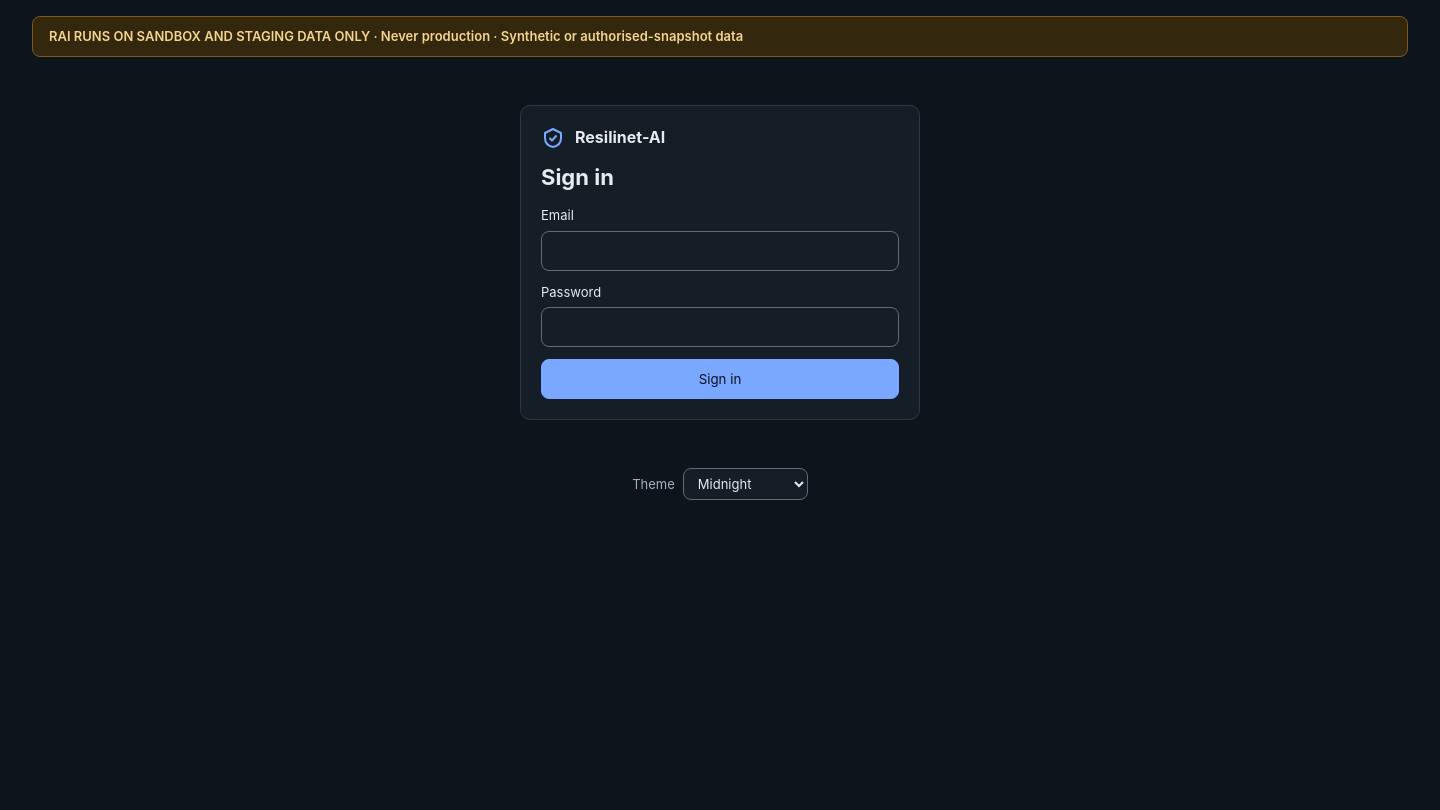
Test: App › lists runs with the release gate, and opens a run with its failing rules
In the field labelled "Email": x=720, y=251 [541, 231, 899, 271], type "ada@example.test"
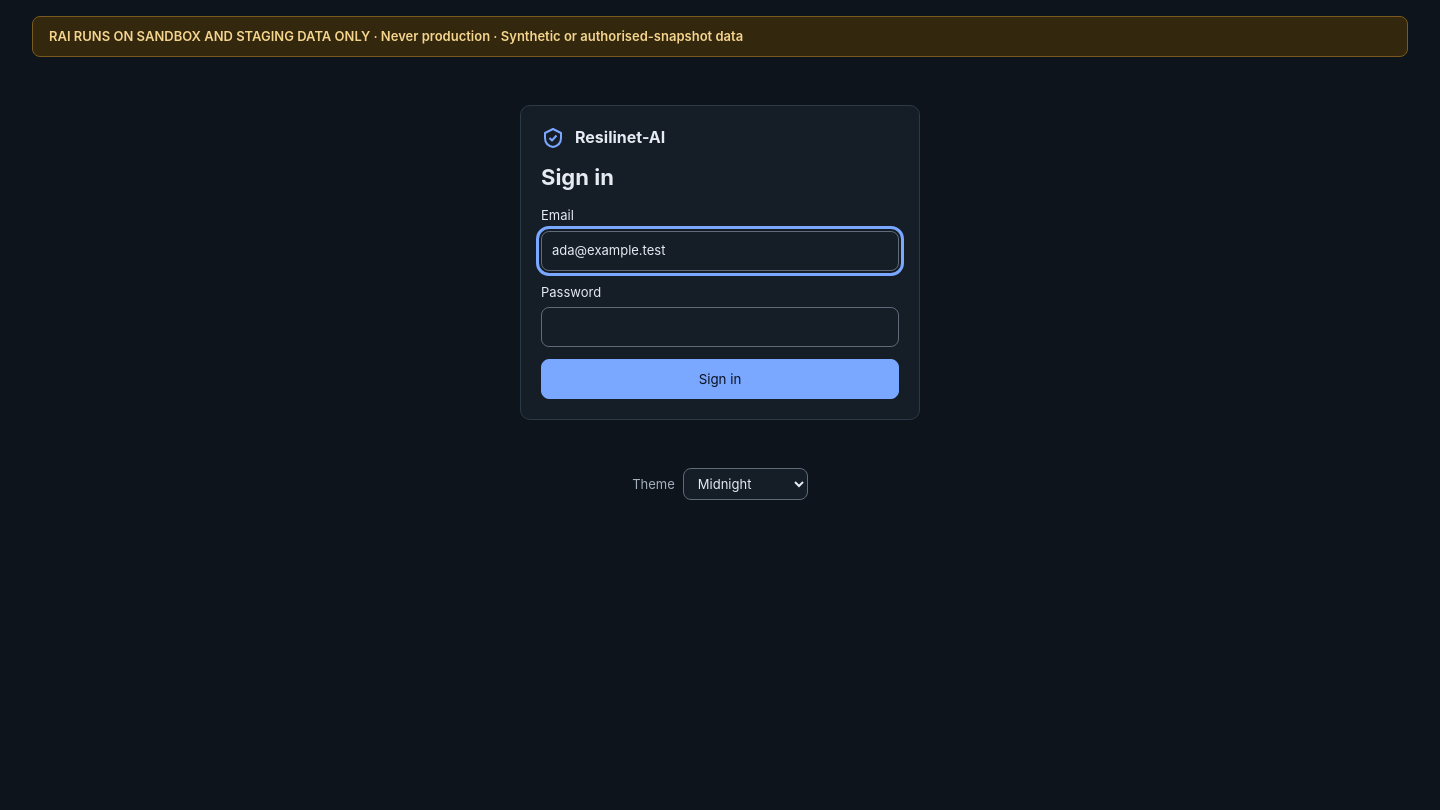
In the password field labelled "Password": x=720, y=327 [541, 307, 899, 347], type "pw"
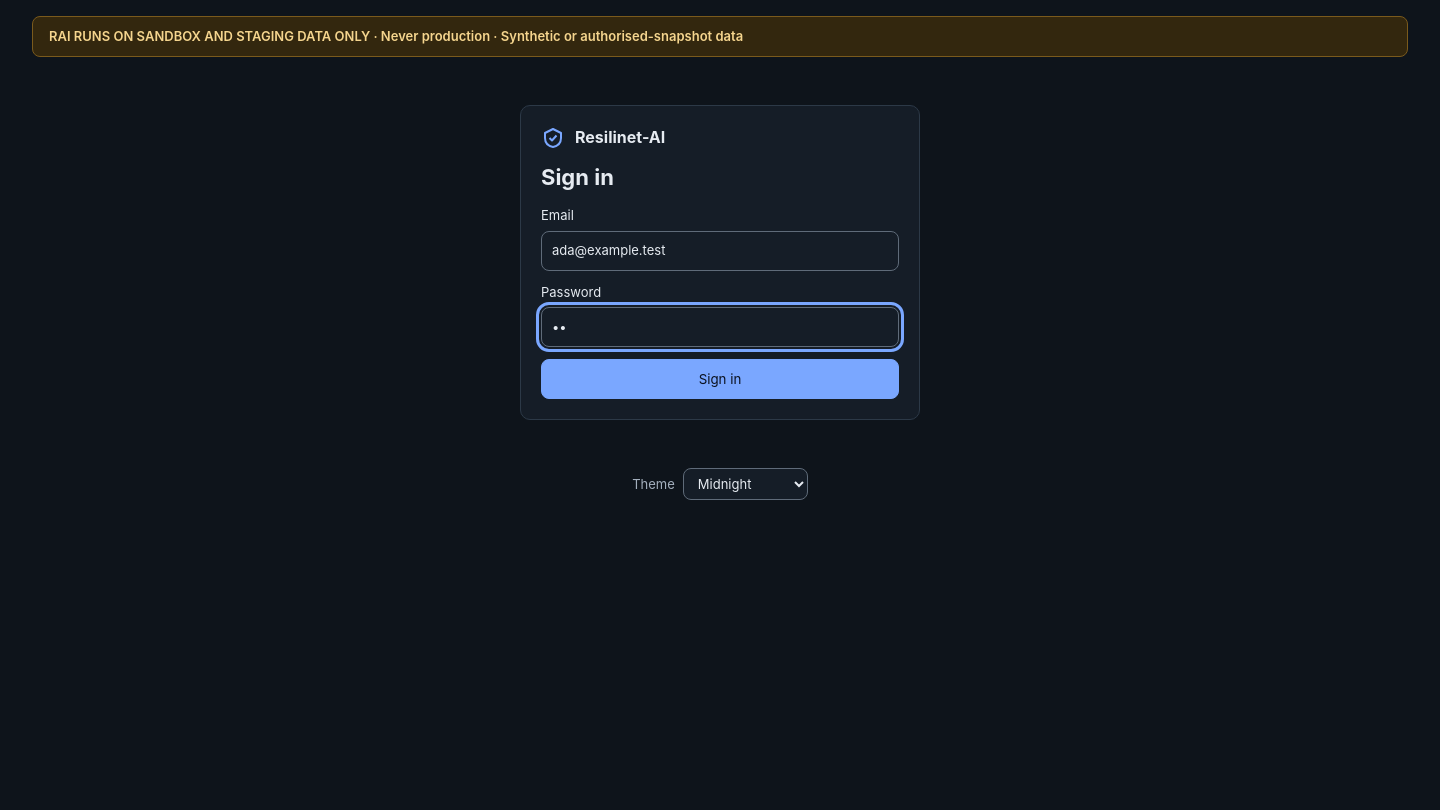
Click the button "Sign in": x=720, y=379 [541, 359, 899, 399]
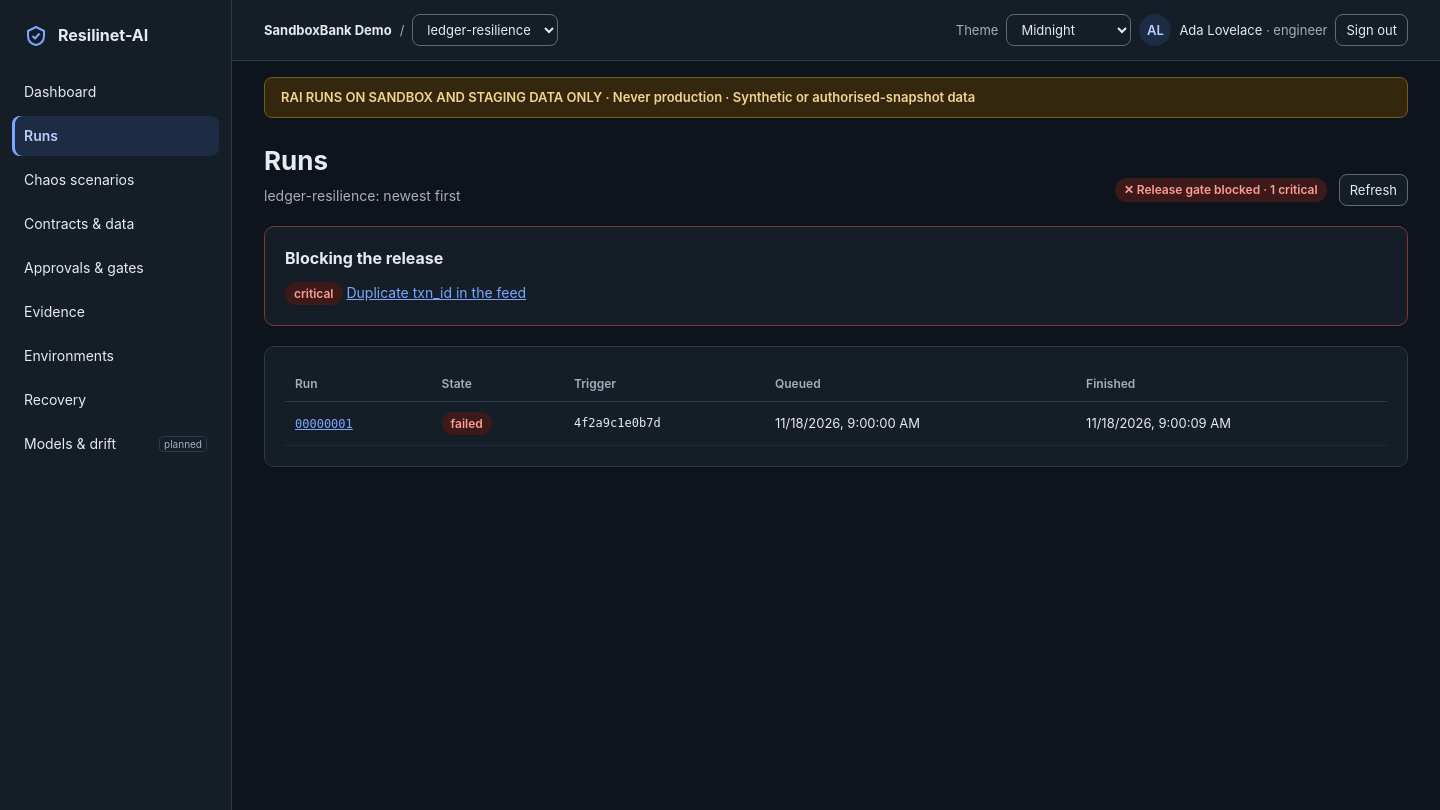
Now the text "✕ Release gate blocked · 1 critical" is shown, box [1115, 178, 1327, 202]
Now the link "Duplicate txn_id in the feed" is shown, box [346, 284, 526, 301]
Click the link "00000001": x=324, y=424 [295, 417, 353, 431]
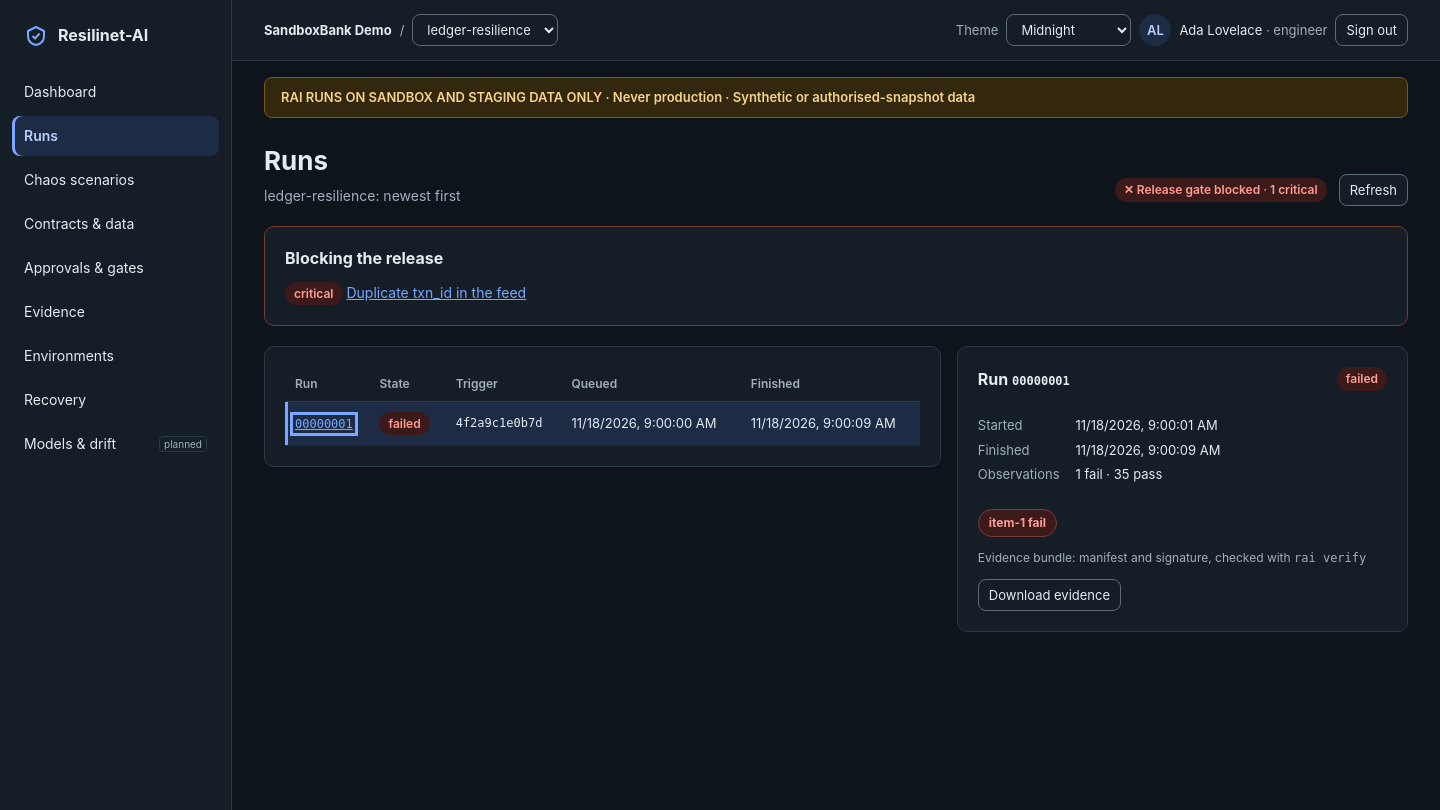
Now the heading "Run 00000001" is shown, box [978, 368, 1070, 391]
Now the text "1 fail · 35 pass" is shown, box [1076, 466, 1162, 482]
Now the button "Download evidence" is enabled, box [978, 579, 1121, 611]
